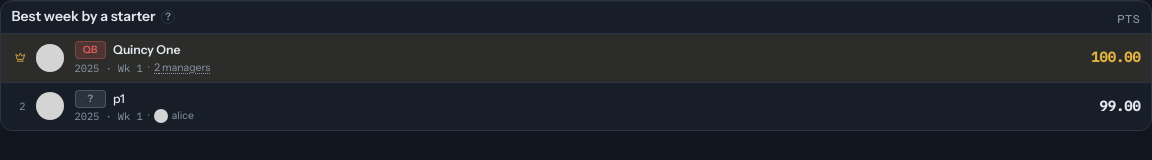
Test: Board › shows several managers as a count with a tooltip naming each, and one manager as the usual link
# a tap opens the list inline, each manager a link, for phones and keyboards where the tooltip never shows
Click the button "2 managers".
click(182, 68)  # box [154, 60, 210, 74]
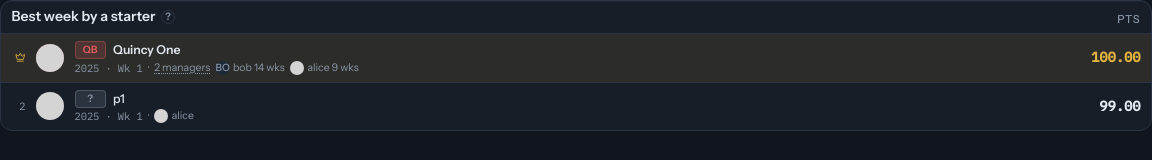
Click the button "2 managers".
click(182, 68)  # box [154, 60, 210, 74]
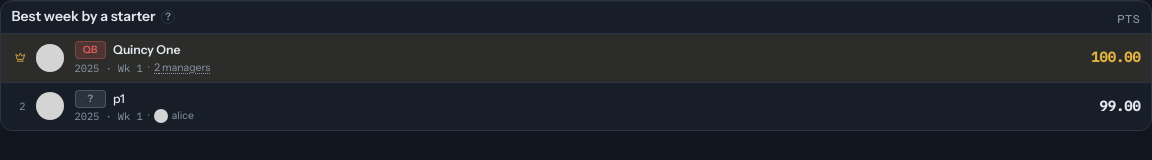
Result: the link "wks" is gone
